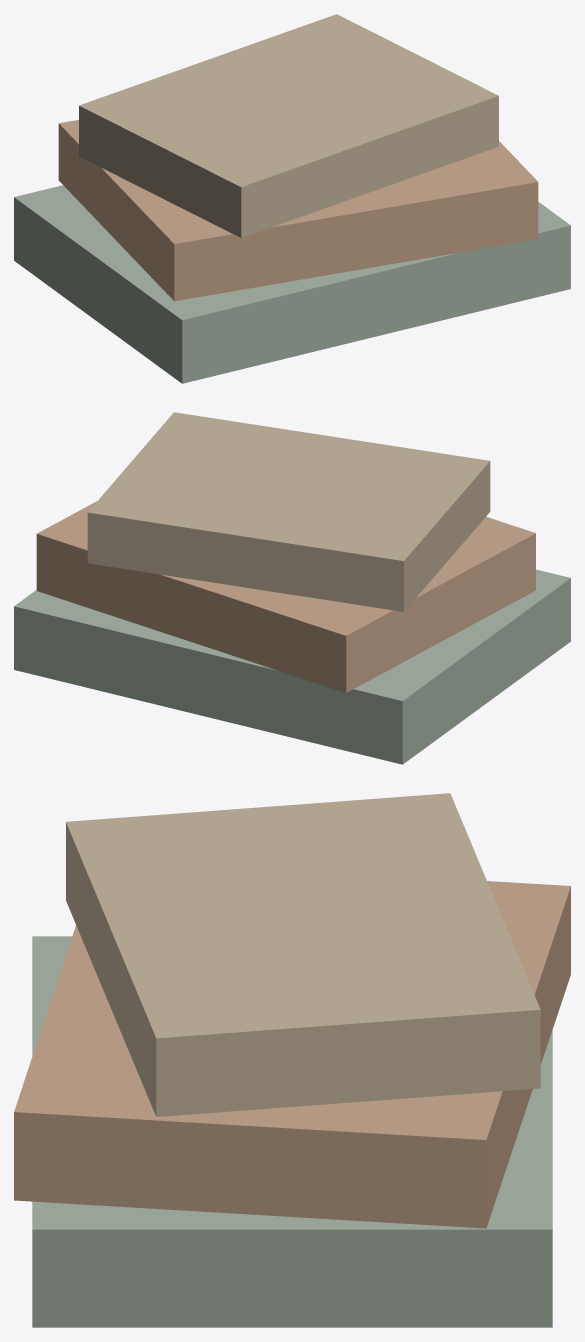
File: liv_aces_livros.glb
3 renders of one model, top to bottom at view 1: azimuth 30°, elevation 25°; view 2: azimuth 150°, elevation 25°; view 3: azimuth 270°, elevation 25°, orthographic. The views are drawn at different scales.
Parts seen in each view (by area): view 1: LIV_Aces_Livros_v01; view 2: LIV_Aces_Livros_v01; view 3: LIV_Aces_Livros_v01.
Boxes of the visible parts, left/top/right/bottom form: LIV_Aces_Livros_v01: left=14, top=14, right=570, bottom=383; LIV_Aces_Livros_v01: left=14, top=412, right=570, bottom=764; LIV_Aces_Livros_v01: left=14, top=793, right=570, bottom=1327.
Size of the model in its own units: 0.32 by 0.135 by 0.2568.
